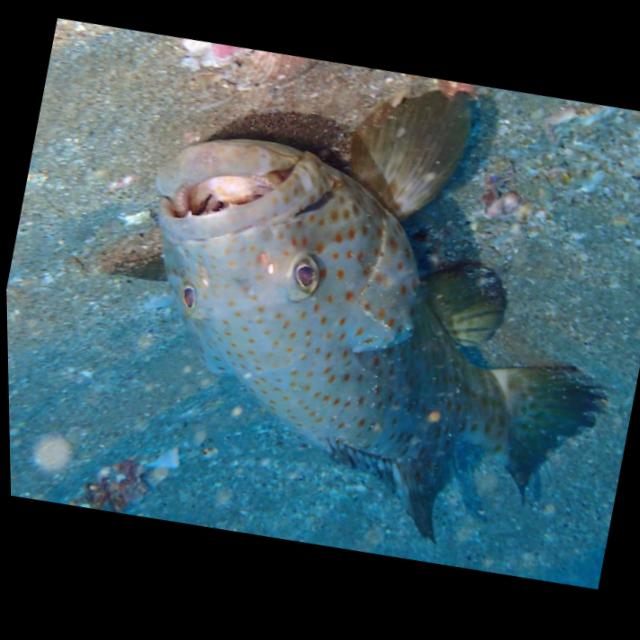Groupers: (27, 12, 640, 598)
